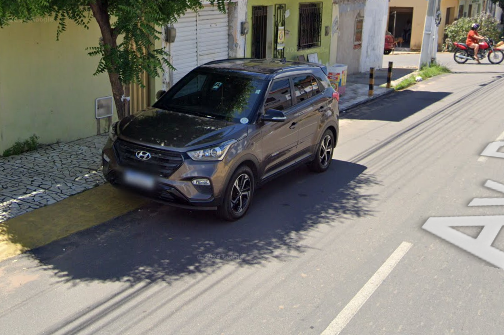car: (99, 52, 343, 226)
